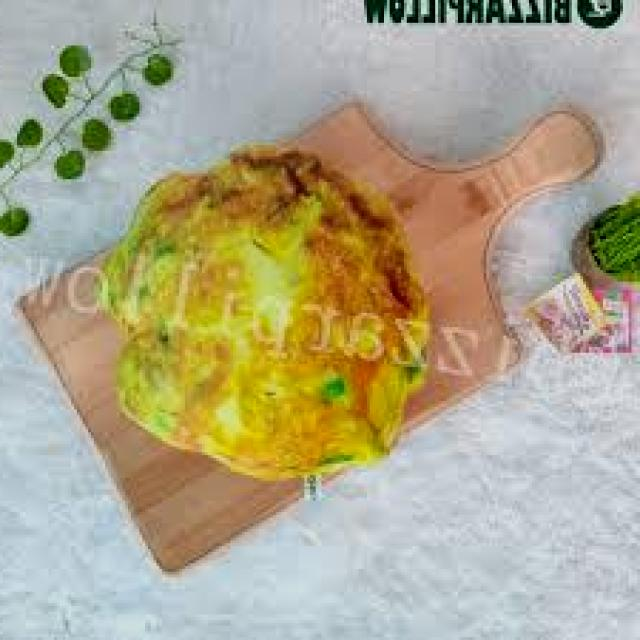omelette: (86, 145, 436, 481)
